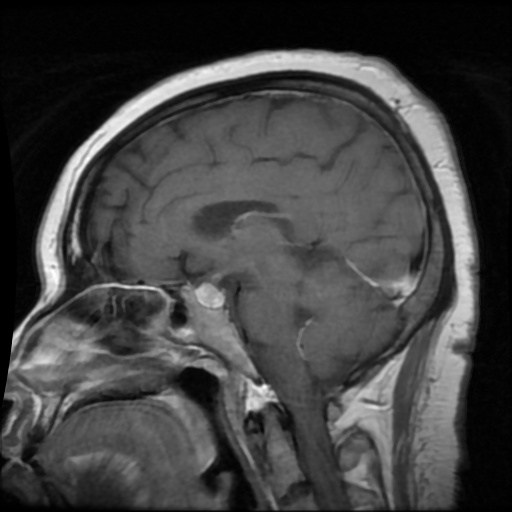pituitary: (197, 284, 225, 306)
